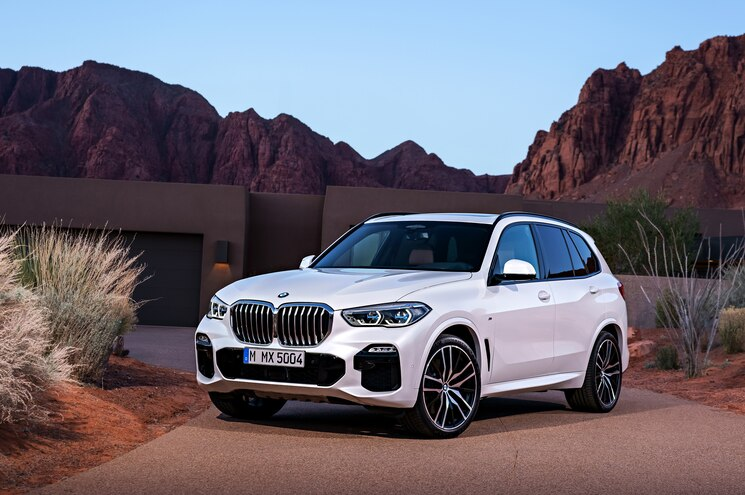bmw: (192, 209, 635, 438)
